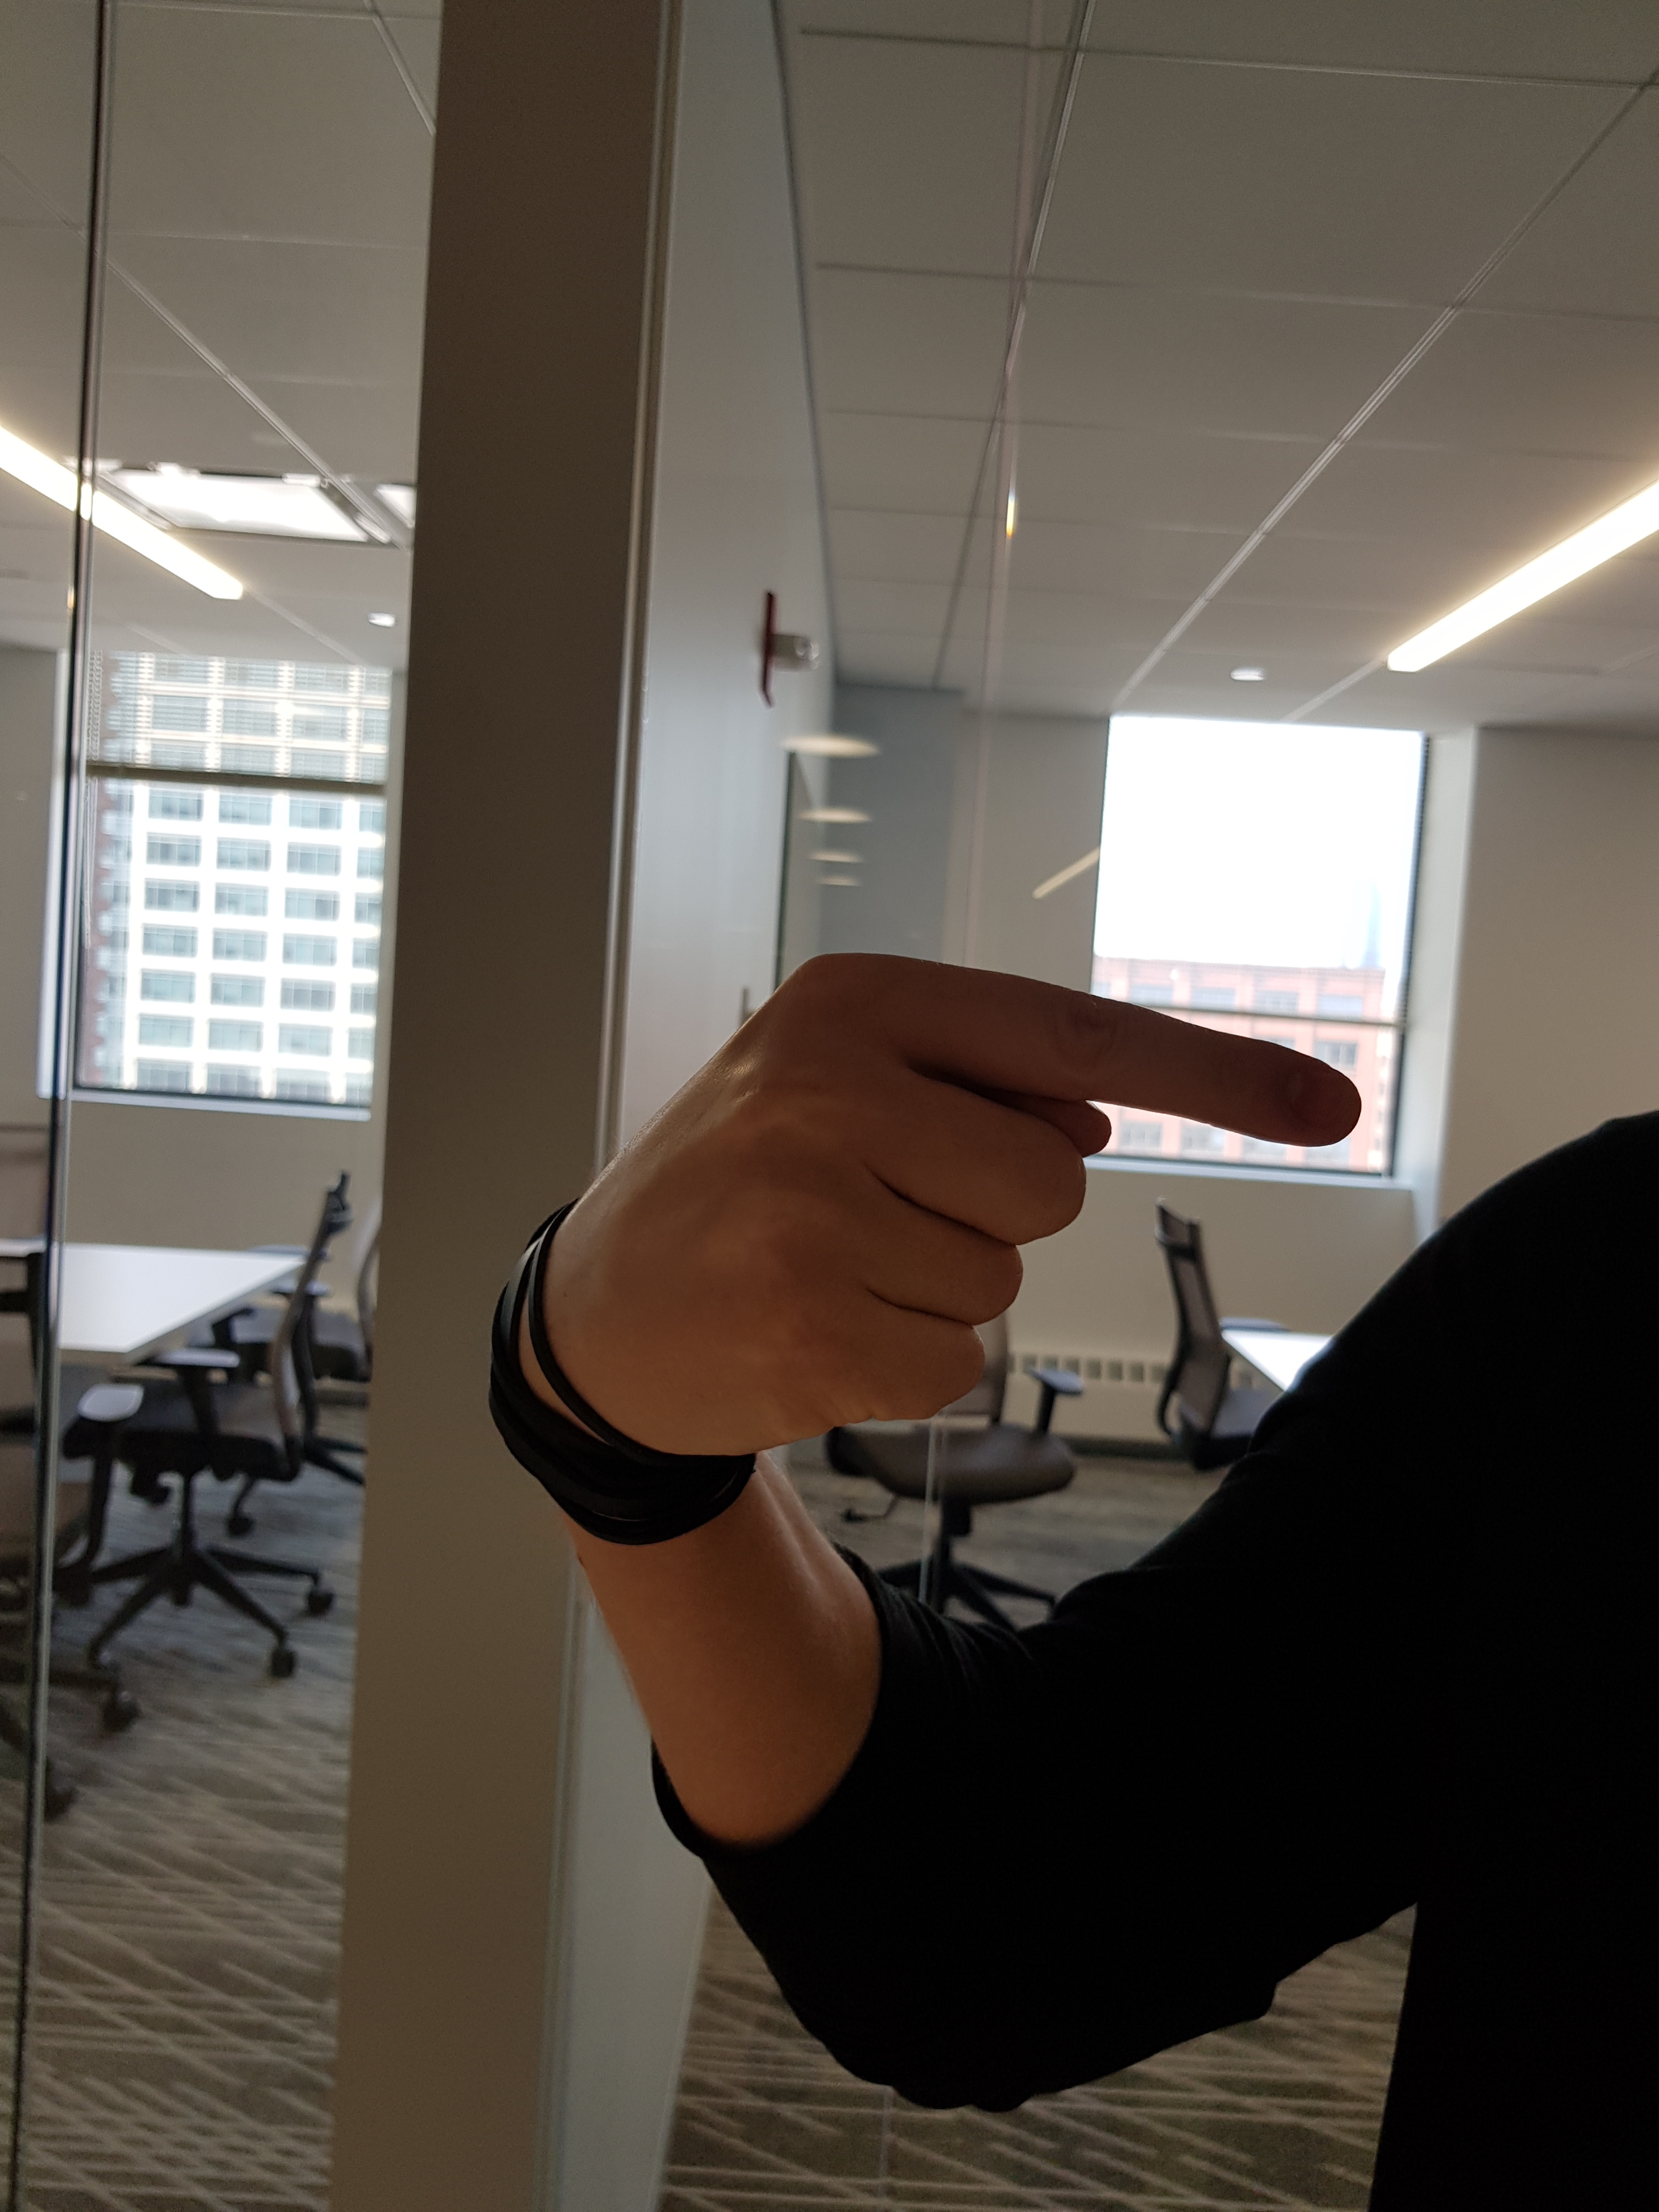g: (458, 907, 1391, 1496)
